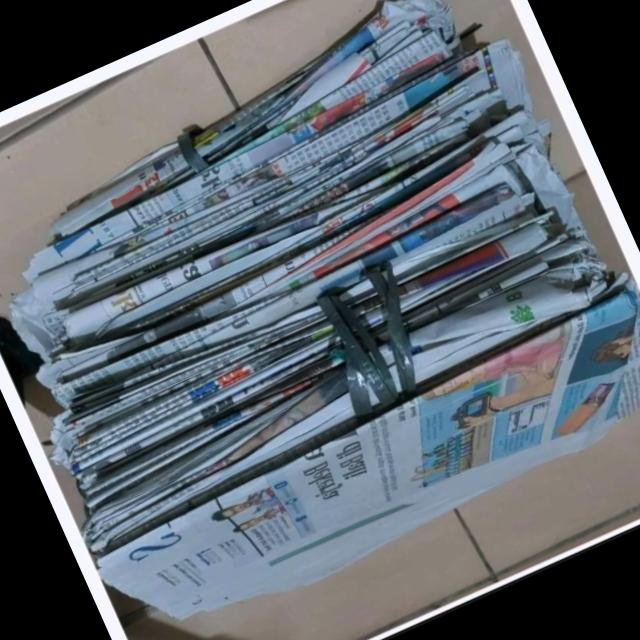Koran: (0, 0, 640, 640), (446, 388, 504, 436)
